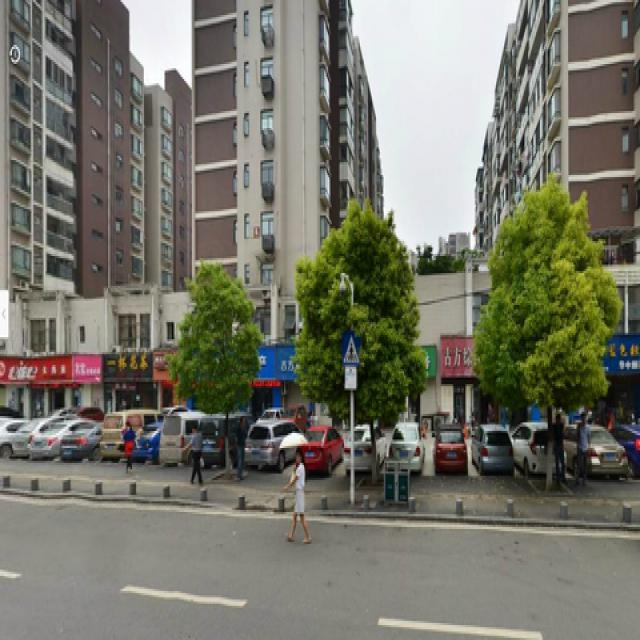cinn: (489, 198, 607, 493)
